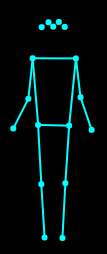mountain: (9, 14, 97, 244)
